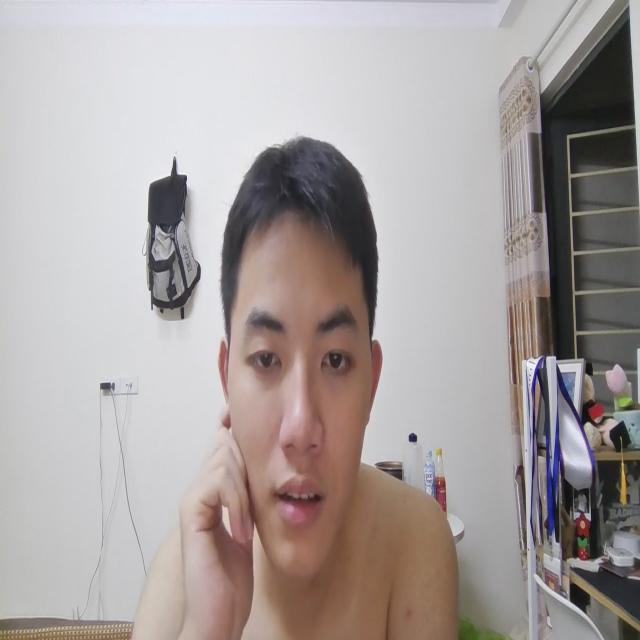student: (193, 135, 396, 619)
